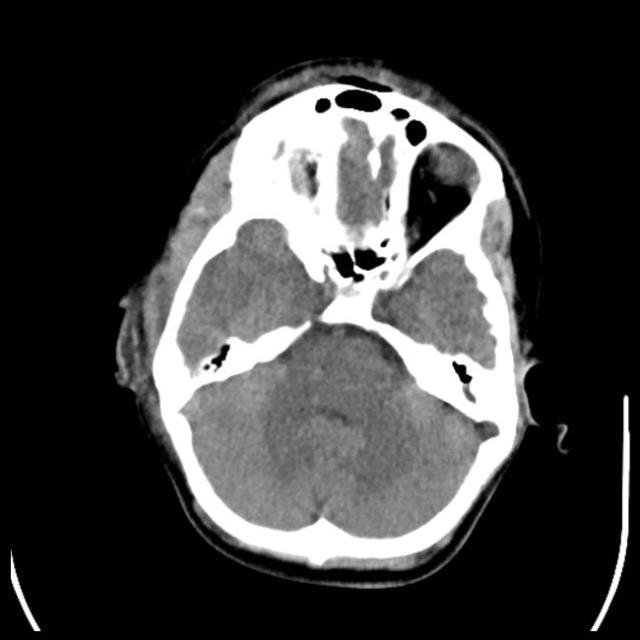lesion: (115, 65, 545, 585)
